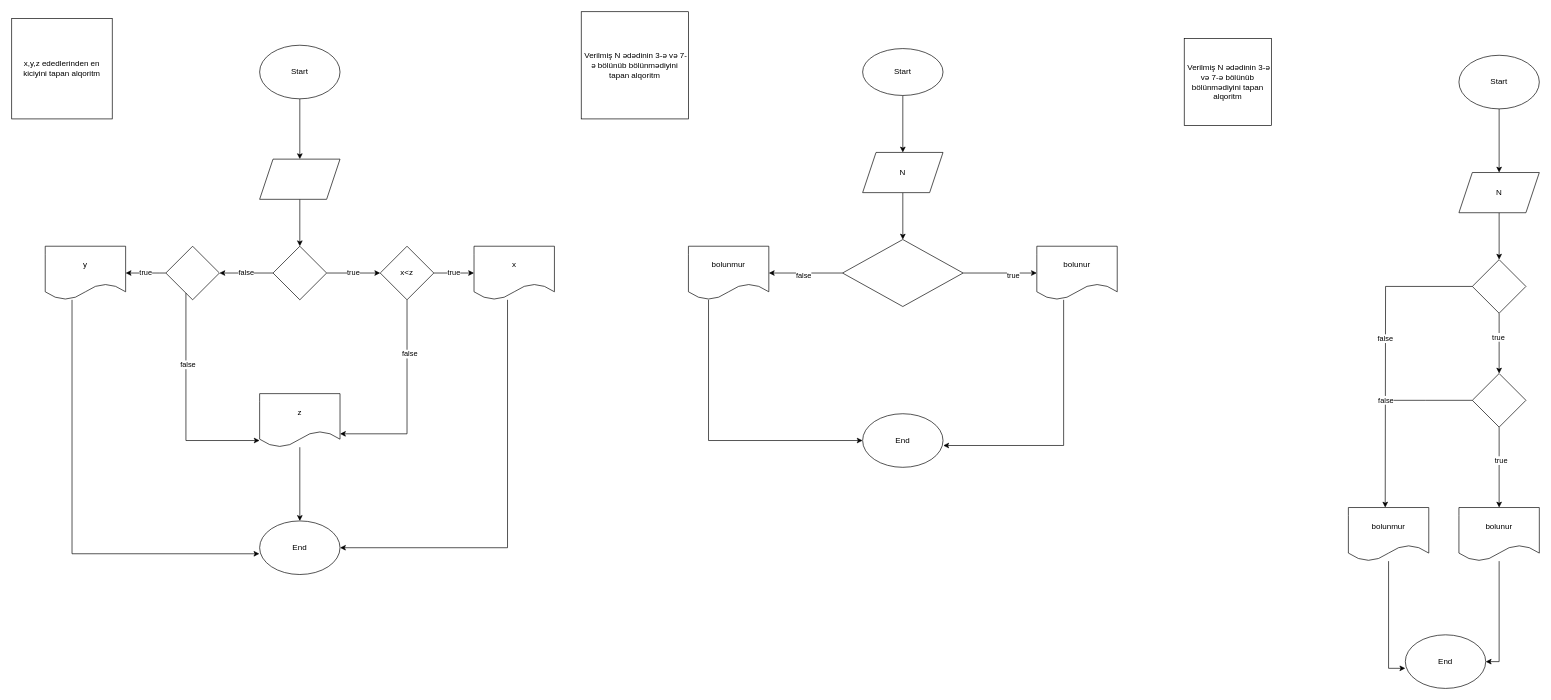
Some shapes in this 1551 by 700 pixel diagram are drawn without their labels. Each missing label, with the box of its shape:
N%3==0: (1472, 259, 1526, 313)
N%3==0 && N%7==0: (842, 239, 963, 307)
N%7==0: (1472, 373, 1526, 427)
x,y,z: (259, 158, 340, 199)
x<y: (272, 246, 327, 300)
y<z: (165, 246, 219, 300)
